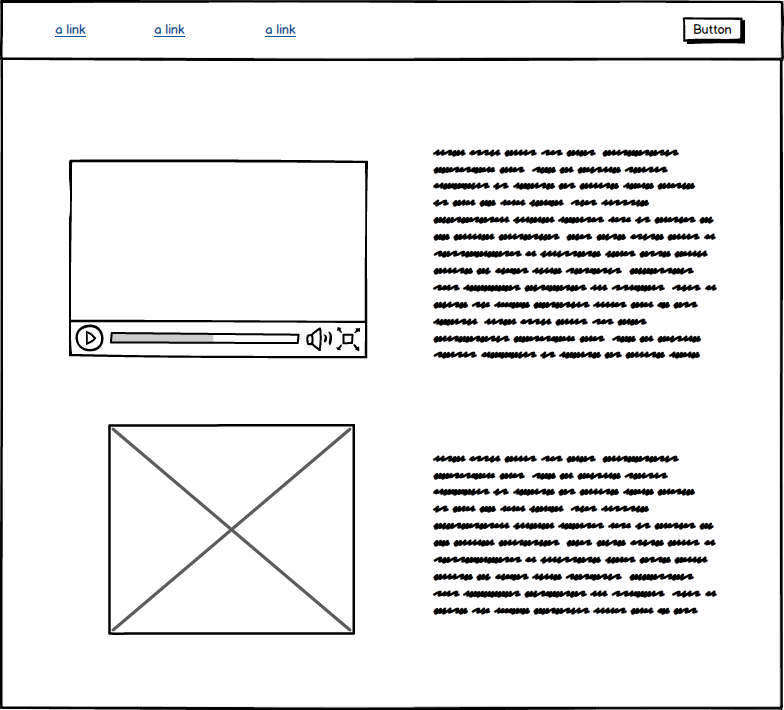button: (675, 11, 751, 48)
image: (102, 417, 361, 640)
navlink: (150, 16, 196, 45), (256, 16, 306, 42), (50, 19, 93, 44)
p: (427, 144, 724, 372), (427, 445, 726, 625)
video: (64, 151, 374, 369)
